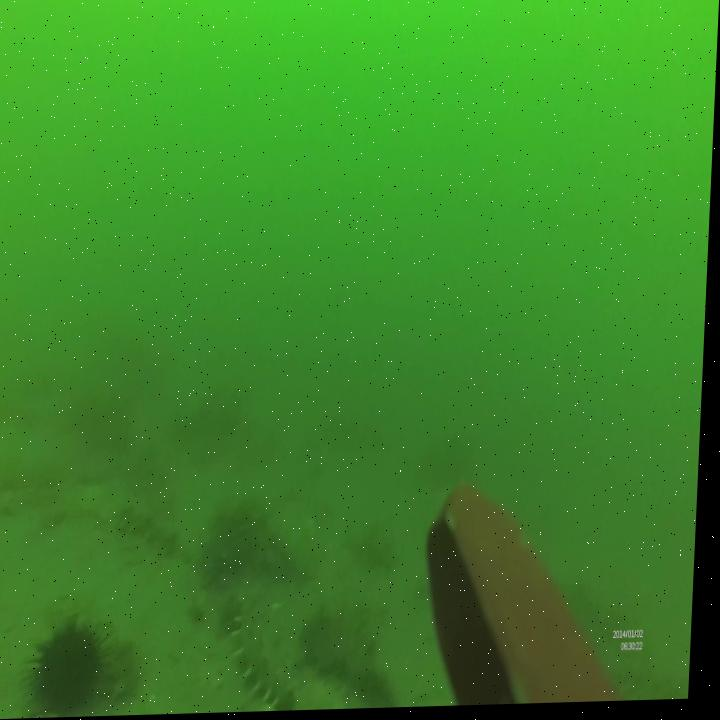echinus: (25, 614, 129, 716)
holothurian: (233, 602, 302, 712), (122, 498, 186, 565)
